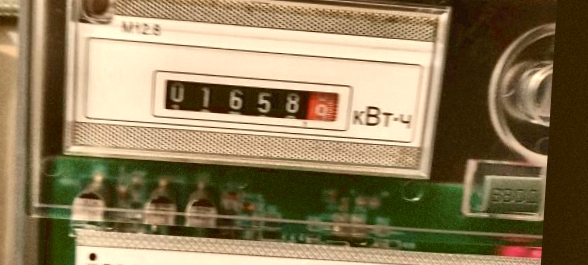0: (168, 80, 186, 102)
1: (197, 83, 213, 108)
5: (255, 88, 272, 113)
6: (226, 86, 246, 111)
8: (283, 90, 301, 113)
9: (312, 100, 329, 122)
screen: (147, 65, 356, 135)
